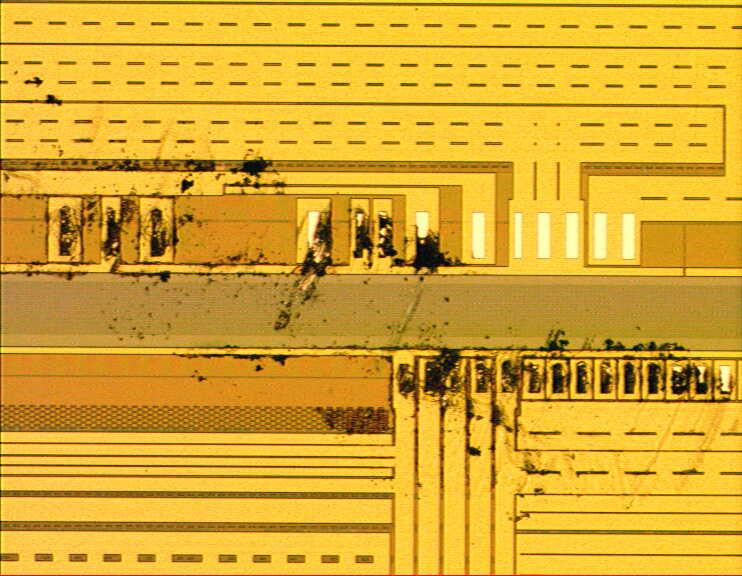SCRATCH: (1, 62, 742, 524)
